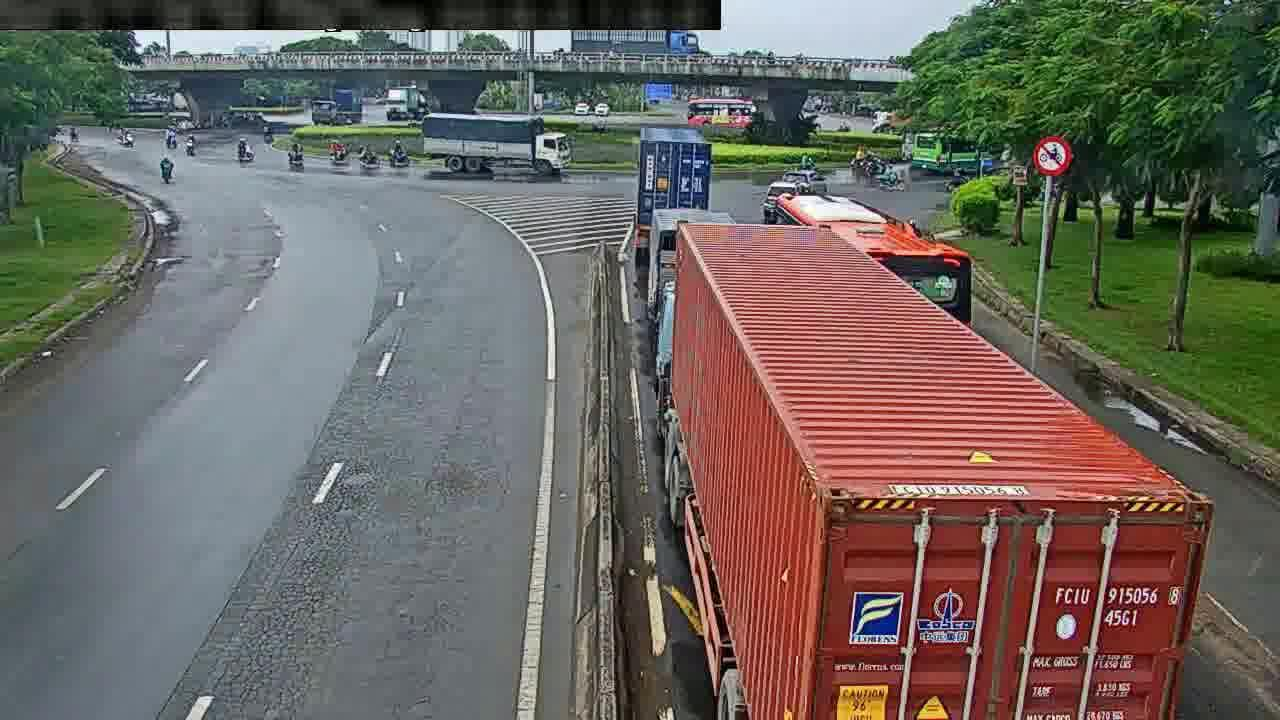14: (775, 189, 979, 326), (912, 130, 987, 175)
8: (663, 219, 1223, 706), (417, 107, 573, 179), (634, 124, 716, 240)
container: (766, 180, 801, 226), (785, 168, 829, 197)
motorbike: (232, 135, 260, 164), (388, 139, 414, 170), (160, 154, 179, 193), (328, 137, 348, 167), (286, 144, 306, 173), (358, 145, 380, 169)
